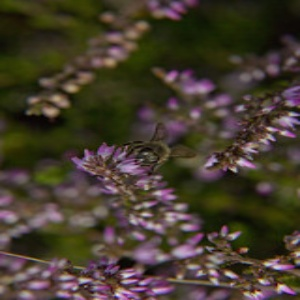bee: (124, 121, 201, 176)
